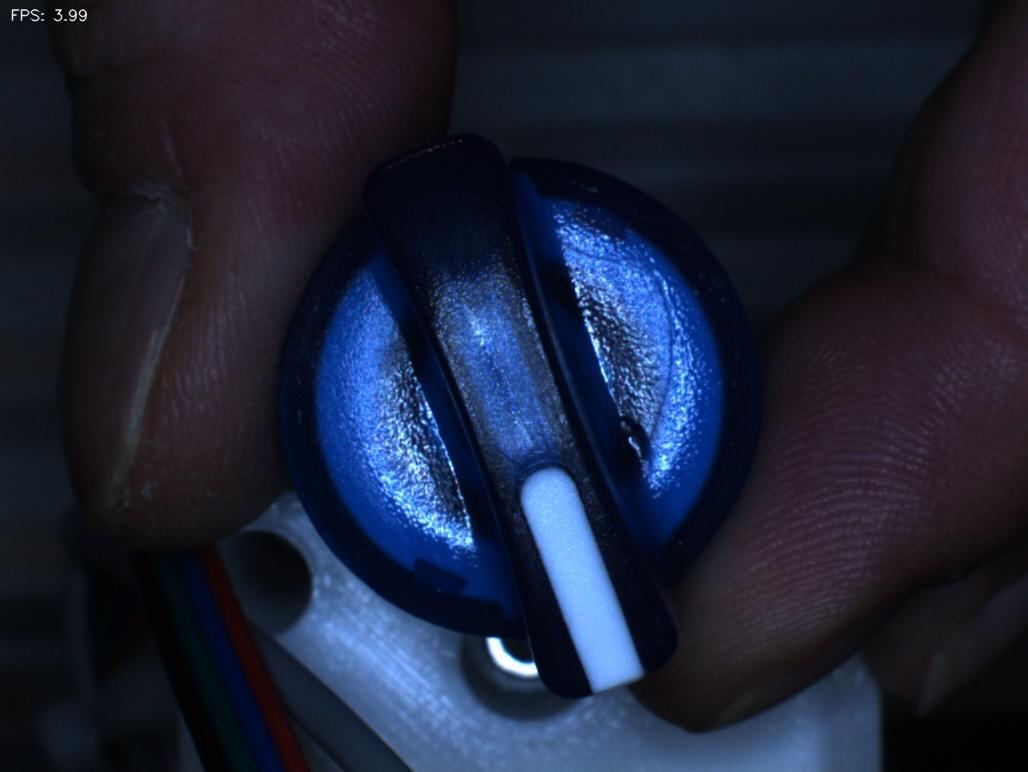Choc: (583, 397, 674, 489)
